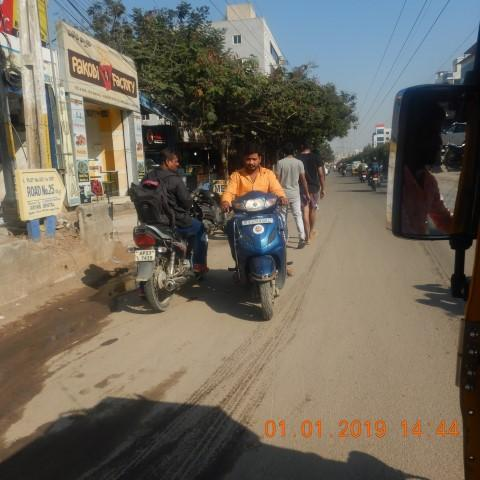plate: (134, 249, 155, 263), (242, 218, 273, 224)
